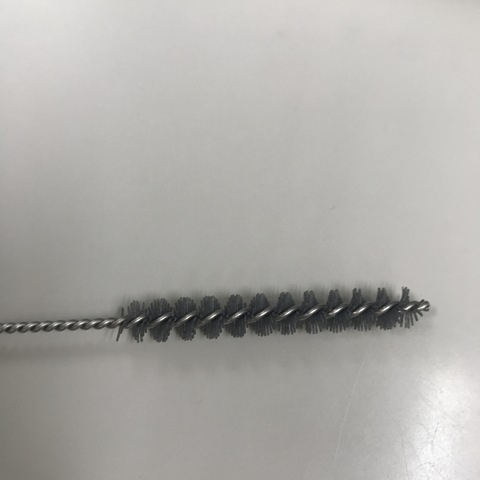Twist Brush-A: (1, 281, 429, 347)
